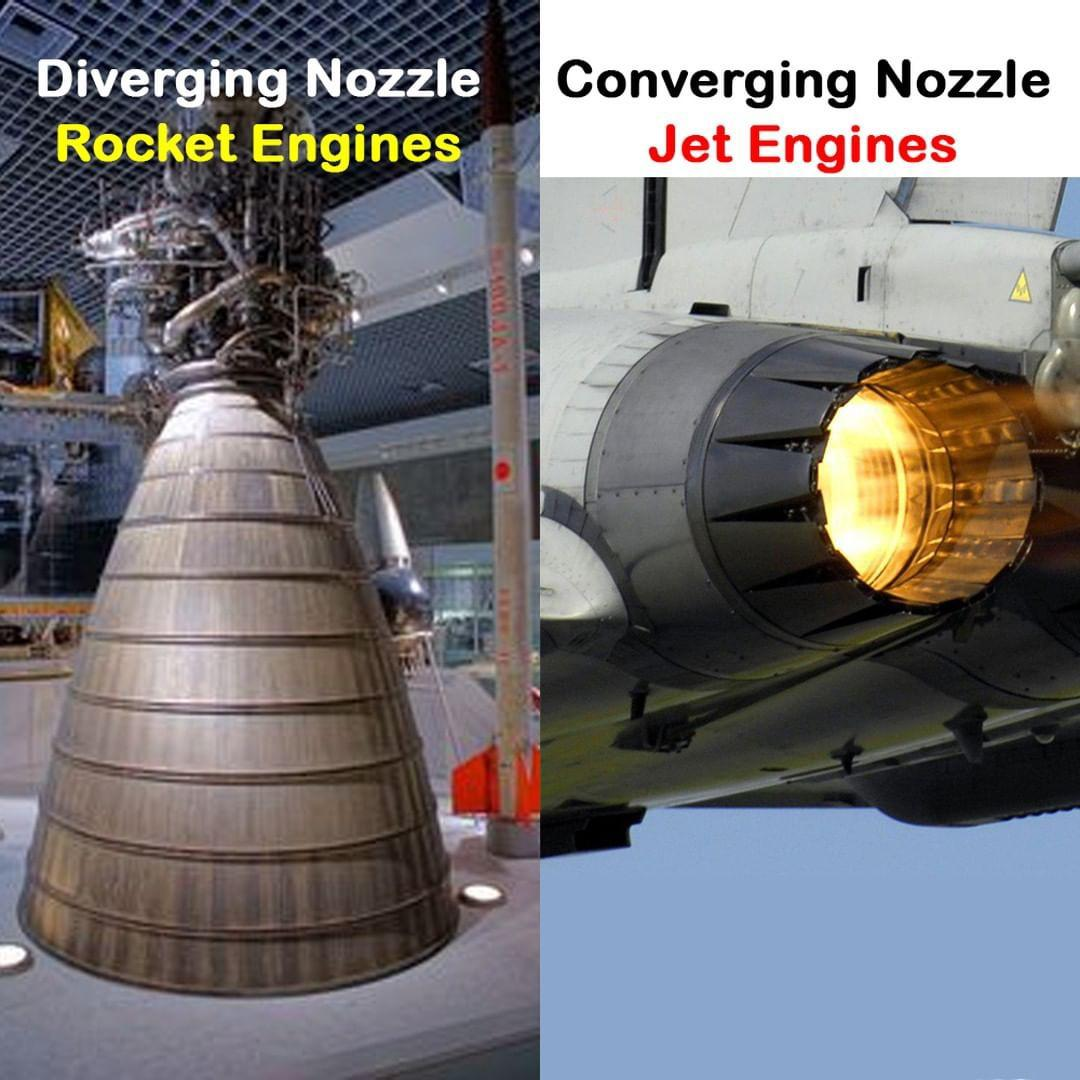thruster: (15, 392, 468, 1002), (592, 319, 1051, 679)
